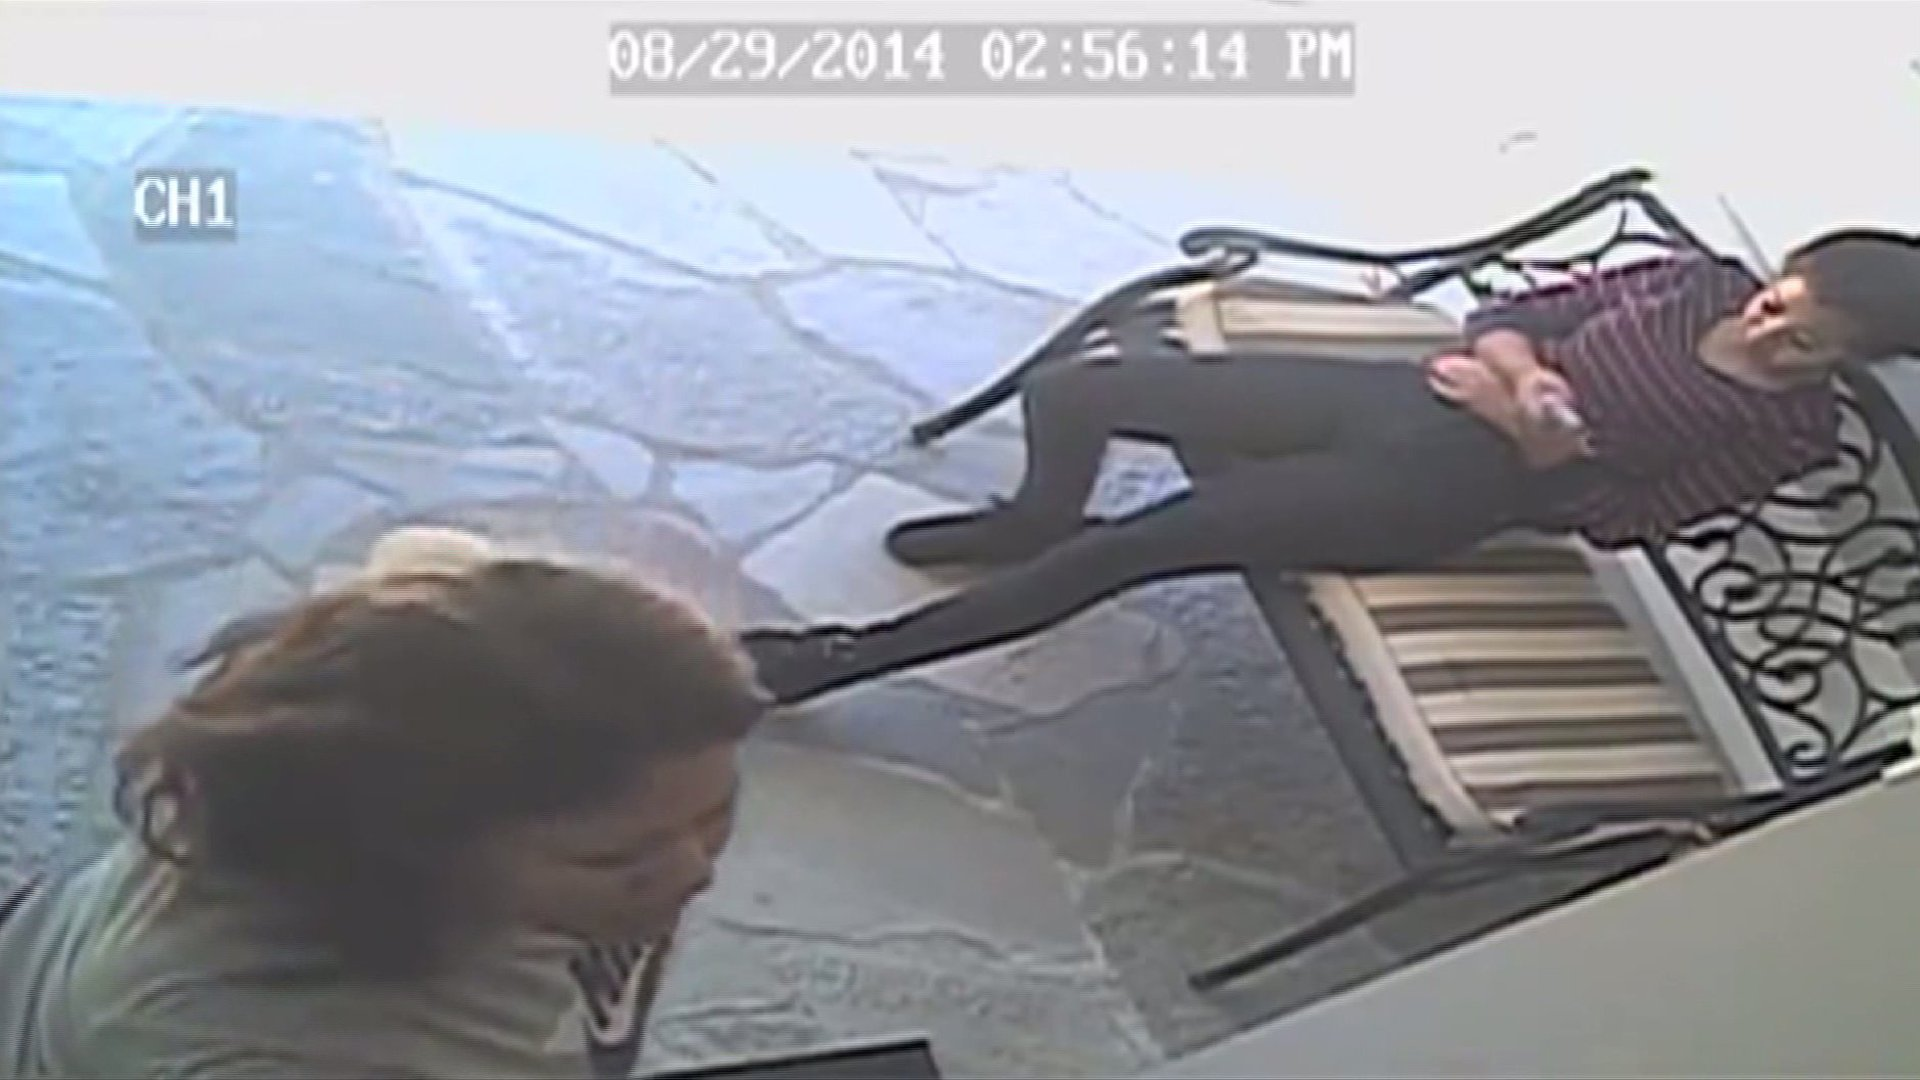Person: (747, 166, 1920, 733), (4, 495, 771, 1080)
